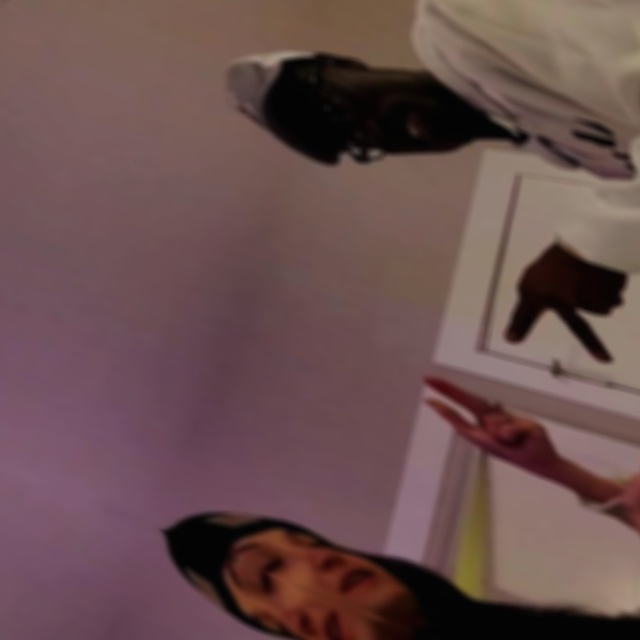Scissors: (478, 228, 640, 387), (402, 356, 574, 490)
